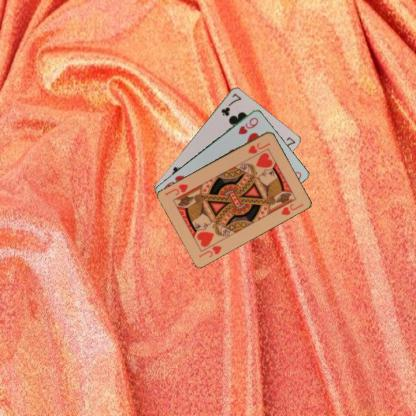7c: (218, 90, 243, 116)
9h: (236, 114, 259, 136)
Jh: (245, 139, 272, 155), (196, 243, 223, 259)
